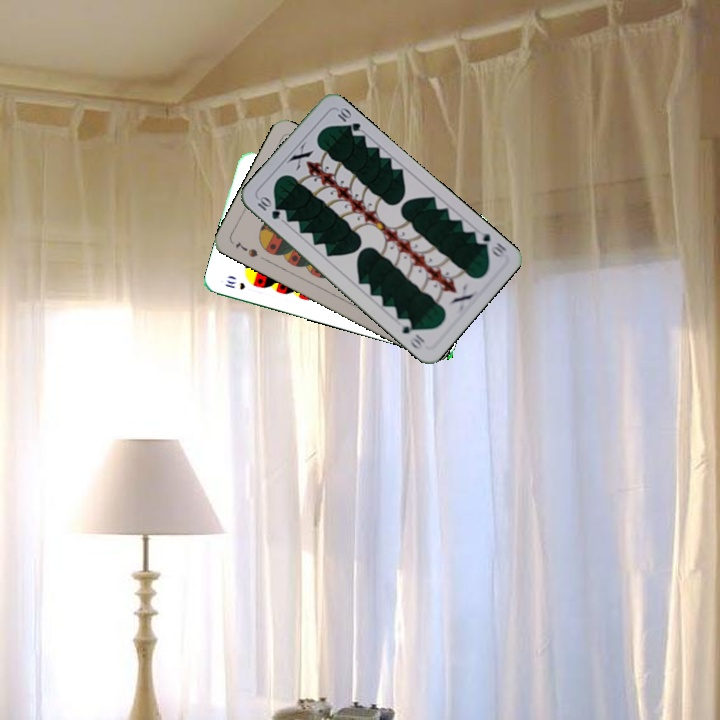G10: (471, 227, 509, 261), (253, 193, 283, 222)
S10: (221, 276, 248, 292)
S7: (231, 238, 261, 260)
